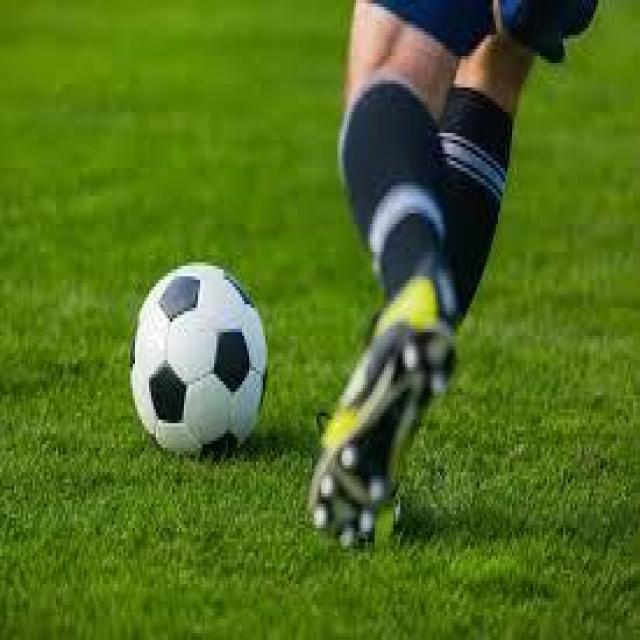Soccer Ball: (135, 262, 268, 444)
